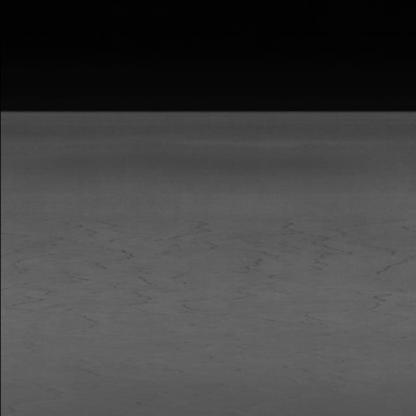silk_spot: (36, 206, 384, 321)
